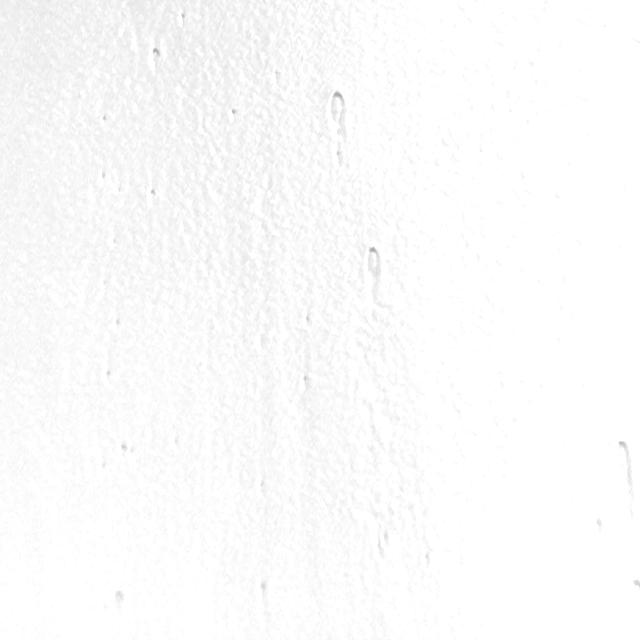pin holes: (322, 90, 353, 135), (360, 243, 387, 292), (610, 440, 636, 484), (105, 586, 127, 618), (144, 46, 165, 74), (253, 578, 273, 607), (374, 533, 394, 562), (624, 577, 640, 610), (589, 515, 608, 541), (96, 366, 115, 389), (417, 550, 434, 573), (252, 476, 268, 500), (298, 372, 314, 395), (114, 440, 131, 461), (108, 314, 124, 336), (331, 149, 345, 173), (144, 187, 159, 208), (166, 435, 180, 455), (94, 462, 108, 480), (107, 234, 121, 251), (176, 10, 189, 28), (95, 169, 106, 188), (226, 109, 239, 125), (96, 114, 108, 129), (114, 184, 125, 198)
